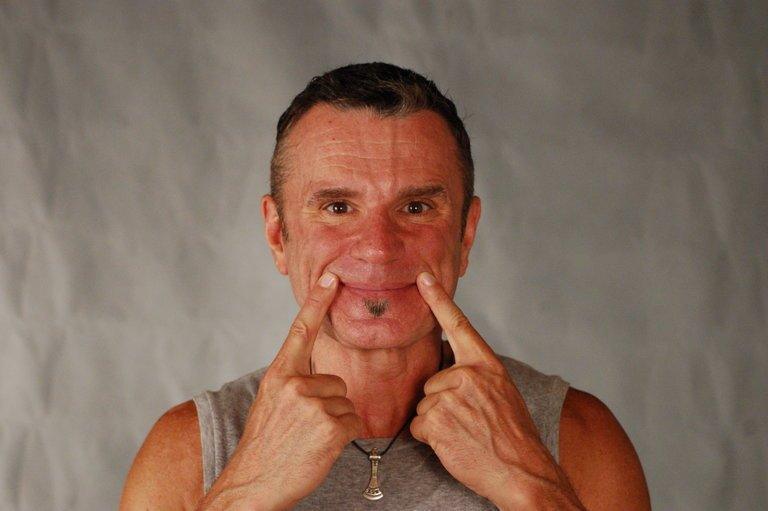happy: (275, 145, 479, 348)
